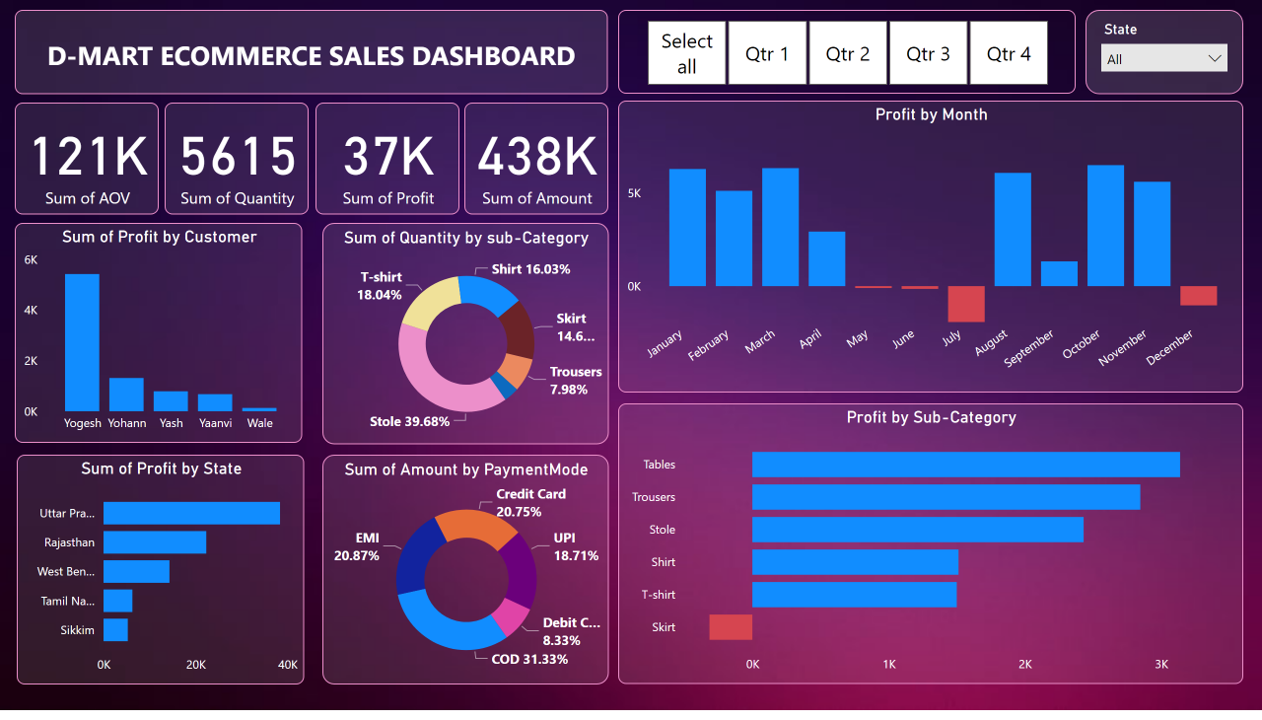

The dashboard page shown, as its layout file describes it:
{"tool":"powerbi","page":{"name":"Page 2","canvas":[1280,720],"ordinal":0},"visuals":[{"type":"clusteredColumnChart","title":"Profit by Month","fields":{"Category":["Orders.Order Date.Variation.Date Hierarchy.Month"],"Y":["Details.Profit"]},"box":[626.8,102.4,633.8,295.9],"z":0},{"type":"barChart","title":"Profit by Sub-Category","fields":{"Category":["Details.Sub-Category"],"Y":["Details.Profit"]},"box":[626.8,409.5,633.8,284.7],"z":1000},{"type":"donutChart","title":"Sum of Quantity by sub-Category ","fields":{"Category":["Details.Sub-Category"],"Y":["Details.Quantity"]},"box":[326.7,225.8,290.3,224.4],"z":2000},{"type":"donutChart","title":"Sum of Amount by PaymentMode","fields":{"Category":["Details.PaymentMode"],"Y":["Details.Amount"]},"box":[326.7,461.3,290.3,232.8],"z":3000},{"type":"barChart","title":"Sum of Profit by State","fields":{"Category":["Orders.State"],"Y":["Details.Amount"]},"box":[16.8,461.3,291.7,232.8],"z":4000},{"type":"columnChart","title":"Sum of Profit by Customer","fields":{"Y":["Details.Amount"],"Category":["Orders.CustomerName"]},"box":[15.4,225.8,291.7,223],"z":5000},{"type":"card","fields":{"Values":["Details.Amount"]},"box":[471.2,103.8,145.8,113.6],"z":6000},{"type":"card","fields":{"Values":["Details.Profit"]},"box":[319.7,103.8,145.8,113.6],"z":7000},{"type":"card","fields":{"Values":["Details.Quantity"]},"box":[166.9,103.8,145.8,113.6],"z":8000},{"type":"card","fields":{"Values":["Details.AOV"]},"box":[15.4,103.8,145.8,113.6],"z":9000},{"type":"textbox","box":[15.4,9.8,601.6,85.5],"z":10000},{"type":"slicer","fields":{"Values":["Orders.Order Date.Variation.Date Hierarchy.Quarter"]},"box":[626.8,9.8,464.2,85],"z":11000},{"type":"slicer","fields":{"Values":["Orders.State"]},"box":[1100.8,9.8,159.9,85.5],"z":12000}]}

Visuals, with their boxes in screenshot pixels (x1, y1, x2, y2), scaled from the page's 1280x720 canvas onto the 1262x720 screenshot:
"Profit by Month" clusteredColumnChart: 618:102:1243:398
"Profit by Sub-Category" barChart: 618:410:1243:694
"Sum of Quantity by sub-Category " donutChart: 322:226:608:450
"Sum of Amount by PaymentMode" donutChart: 322:461:608:694
"Sum of Profit by State" barChart: 17:461:304:694
"Sum of Profit by Customer" columnChart: 15:226:303:449
card - Details.Amount: 465:104:608:217
card - Details.Profit: 315:104:459:217
card - Details.Quantity: 165:104:308:217
card - Details.AOV: 15:104:159:217
textbox: 15:10:608:95
slicer - Orders.Order Date.Variation.Date Hierarchy.Quarter: 618:10:1076:95
slicer - Orders.State: 1085:10:1243:95
